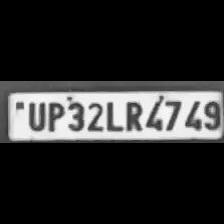2: (84, 98, 104, 132)
3: (64, 100, 86, 132)
4: (142, 97, 164, 131), (180, 98, 202, 132)
7: (162, 97, 180, 131)
9: (200, 98, 222, 132)
L: (102, 98, 122, 132)
P: (44, 100, 64, 132)
R: (121, 97, 143, 132)
U: (24, 99, 46, 131)
